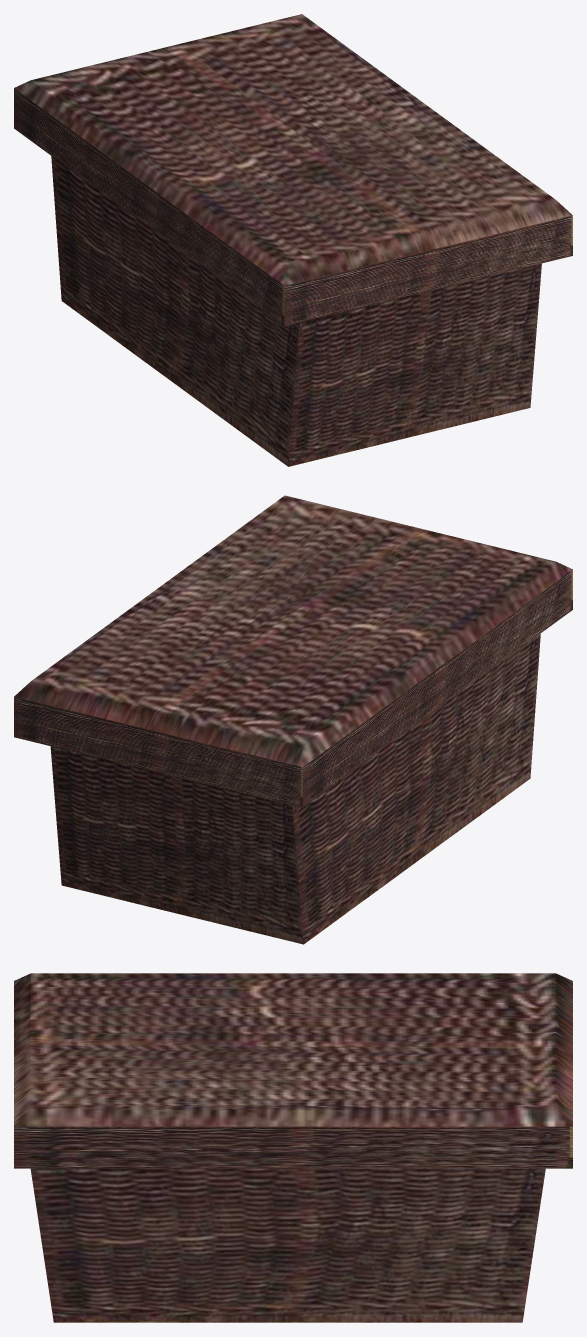
The model's file is basket4.obj.
The picture shows the model from 3 angles, top to bottom: view 1: azimuth 30°, elevation 25°; view 2: azimuth 150°, elevation 25°; view 3: azimuth 270°, elevation 25°; orthographic projection. The views are drawn at different scales.
Visible parts, largest first — view 1: Regroup04; view 2: Regroup04; view 3: Regroup04.
Boxes of the visible parts, box(x1,y1,x2,y2) form: Regroup04: box(14, 14, 572, 466); Regroup04: box(14, 495, 572, 944); Regroup04: box(14, 973, 572, 1322).
Size of the model in its own units: 32.53 by 22.88 by 52.75.
1 material, 1 textured.
